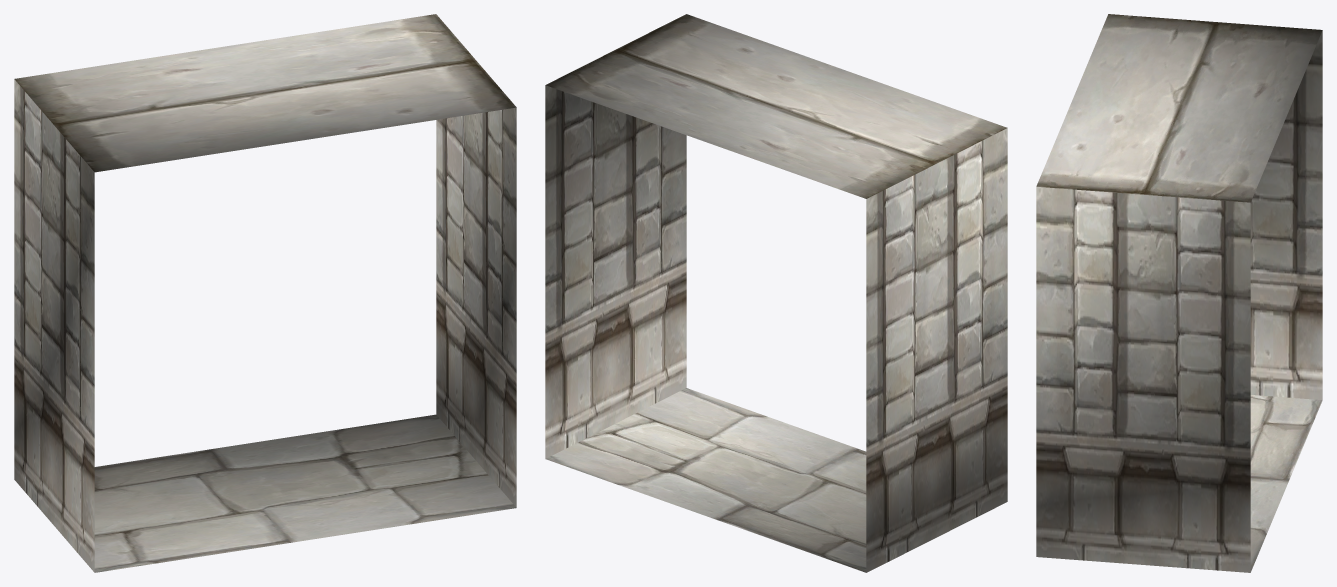
File: stormwind_043.fbx
3 views of the same model, side by side, from view 1: azimuth 30°, elevation 25°; view 2: azimuth 150°, elevation 25°; view 3: azimuth 270°, elevation 25° (orthographic). The views are drawn at different scales.
Visible parts, largest first — view 1: stormwind_043_60, stormwind_043_40, stormwind_043_52; view 2: stormwind_043_60, stormwind_043_40, stormwind_043_52; view 3: stormwind_043_60, stormwind_043_40, stormwind_043_52.
Part boxes in pixels (left/top/right/bottom): stormwind_043_60: left=14, top=79, right=516, bottom=572; stormwind_043_40: left=14, top=14, right=516, bottom=172; stormwind_043_52: left=94, top=414, right=516, bottom=572; stormwind_043_60: left=545, top=85, right=1007, bottom=572; stormwind_043_40: left=545, top=14, right=1007, bottom=198; stormwind_043_52: left=545, top=388, right=866, bottom=572; stormwind_043_60: left=1036, top=31, right=1322, bottom=572; stormwind_043_40: left=1036, top=14, right=1322, bottom=202; stormwind_043_52: left=1250, top=395, right=1322, bottom=572.
Size of the model in its own units: 5.45 by 4.98 by 3.49.
